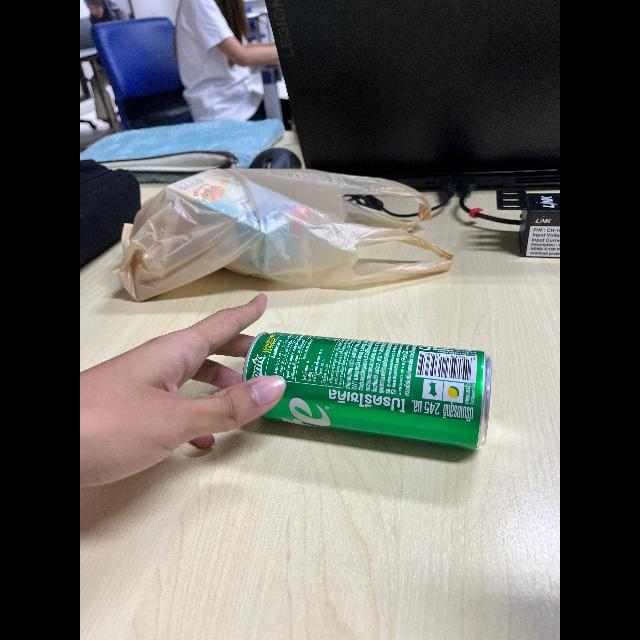can: (228, 322, 510, 458)
